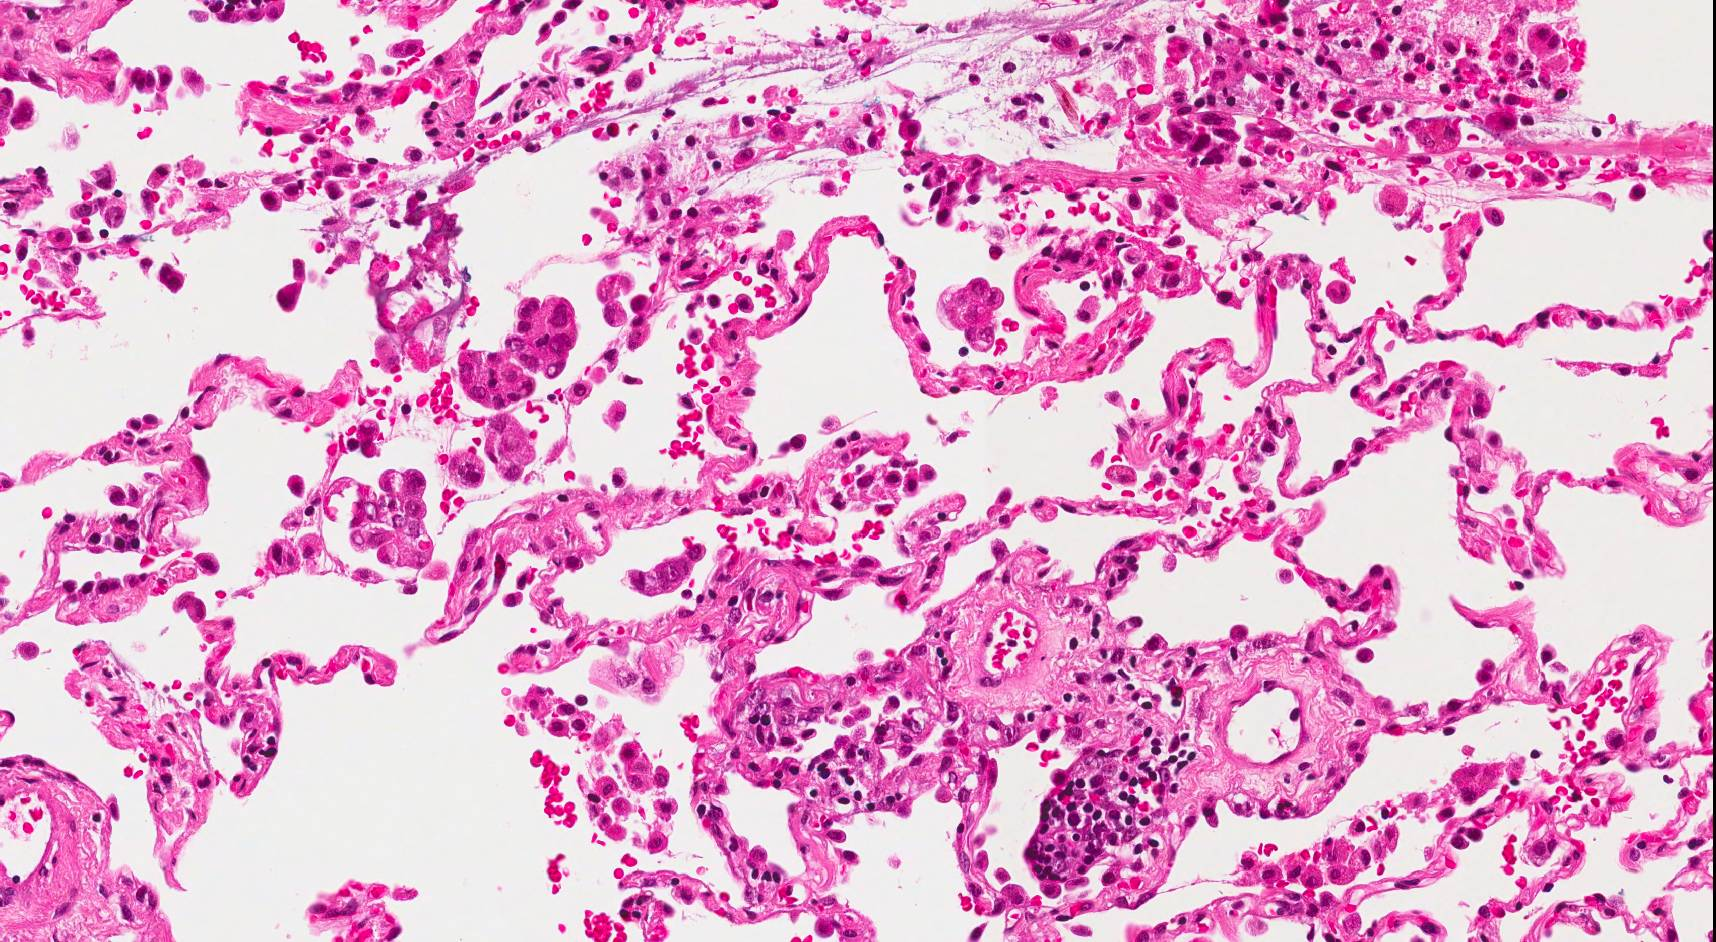stas: (455, 292, 577, 409), (346, 465, 438, 572), (444, 414, 539, 493), (938, 273, 1009, 357), (619, 535, 711, 599)
